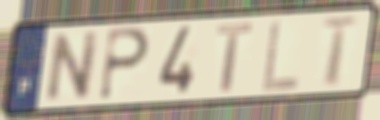4: (156, 22, 197, 98)
L: (259, 16, 302, 95)
N: (42, 28, 103, 105)
P: (96, 26, 152, 103)
T: (214, 20, 256, 95), (319, 15, 362, 88)
